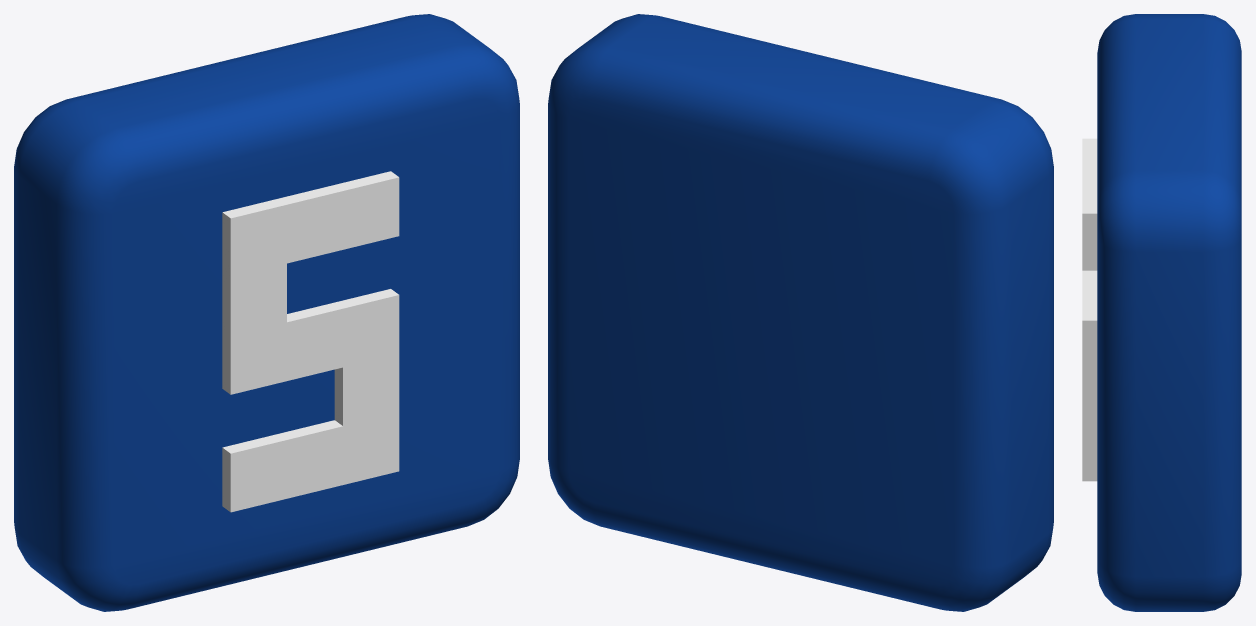
The model's file is keycap_5.gltf.
3 renders of one model, left to right at view 1: azimuth 30°, elevation 25°; view 2: azimuth 150°, elevation 25°; view 3: azimuth 270°, elevation 25°, orthographic. The views are drawn at different scales.
Visible parts, largest first — view 1: Cube.6583; view 2: Cube.6583; view 3: Cube.6583.
Boxes of the visible parts, x1,y1,x2,y2 form: Cube.6583: (14,14,519,611); Cube.6583: (548,14,1053,611); Cube.6583: (1082,14,1241,611).
Bounding box in the file's own units: 2.2 × 2.2 × 0.73.
Materials: 1 (1 with a texture image).
